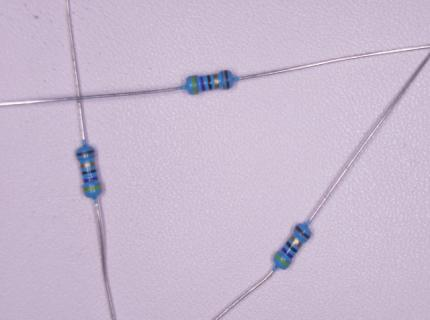Black band: (286, 241, 298, 253), (82, 169, 97, 175), (207, 75, 211, 91)
Brown band: (296, 225, 310, 240), (77, 150, 95, 157), (225, 70, 230, 89)
Gold band: (290, 236, 302, 248), (80, 162, 95, 168), (214, 74, 219, 89)
Violet band: (282, 247, 294, 259), (83, 177, 98, 183), (200, 76, 205, 91)
Yellow band: (275, 254, 290, 266), (84, 185, 101, 192), (192, 76, 197, 94)
